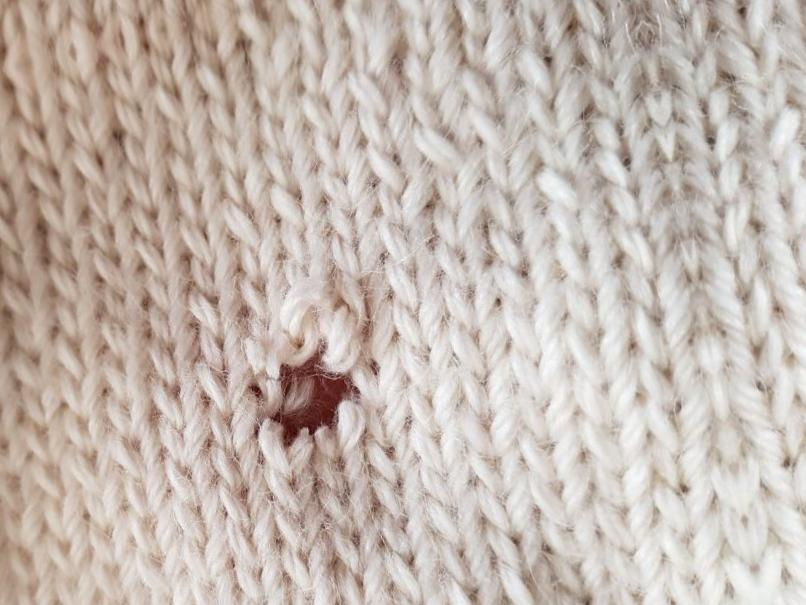hole: (249, 348, 374, 453)
